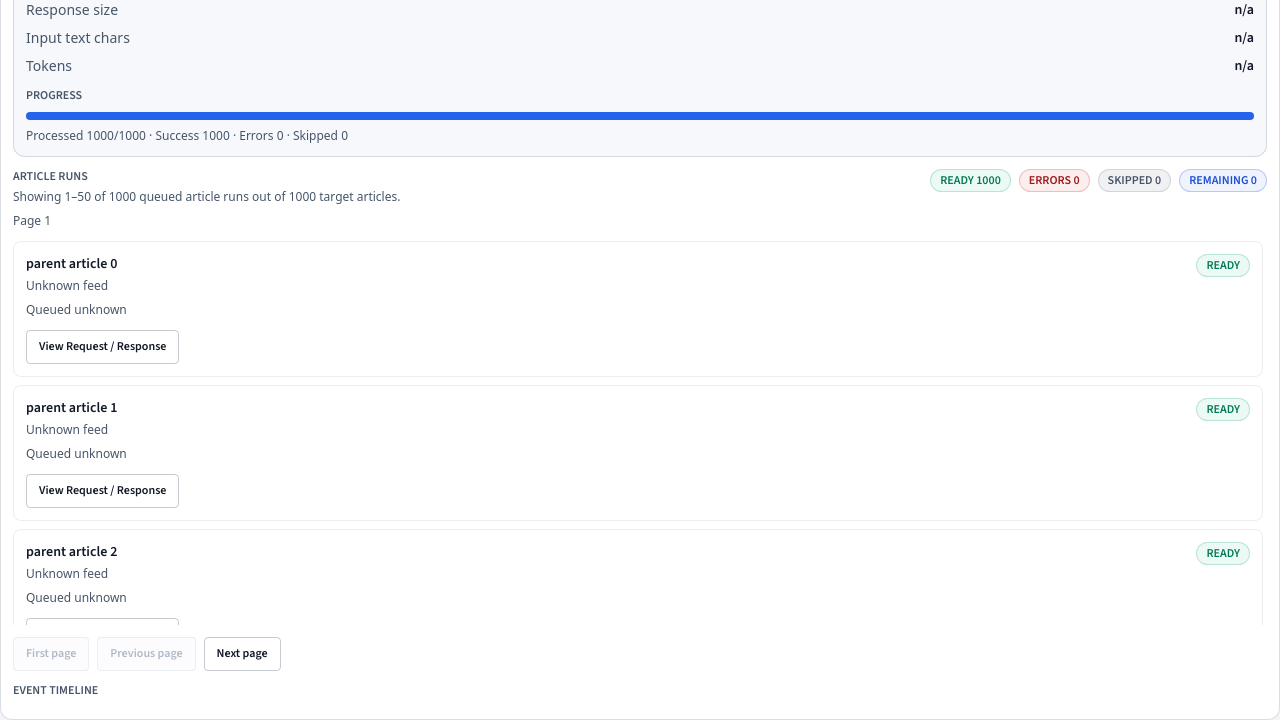
Test: returns to the last available page when retention reduces the total
(page scrolled)
Click the button "Next page": {"x": 242, "y": 654} left=204, top=637, right=281, bottom=671
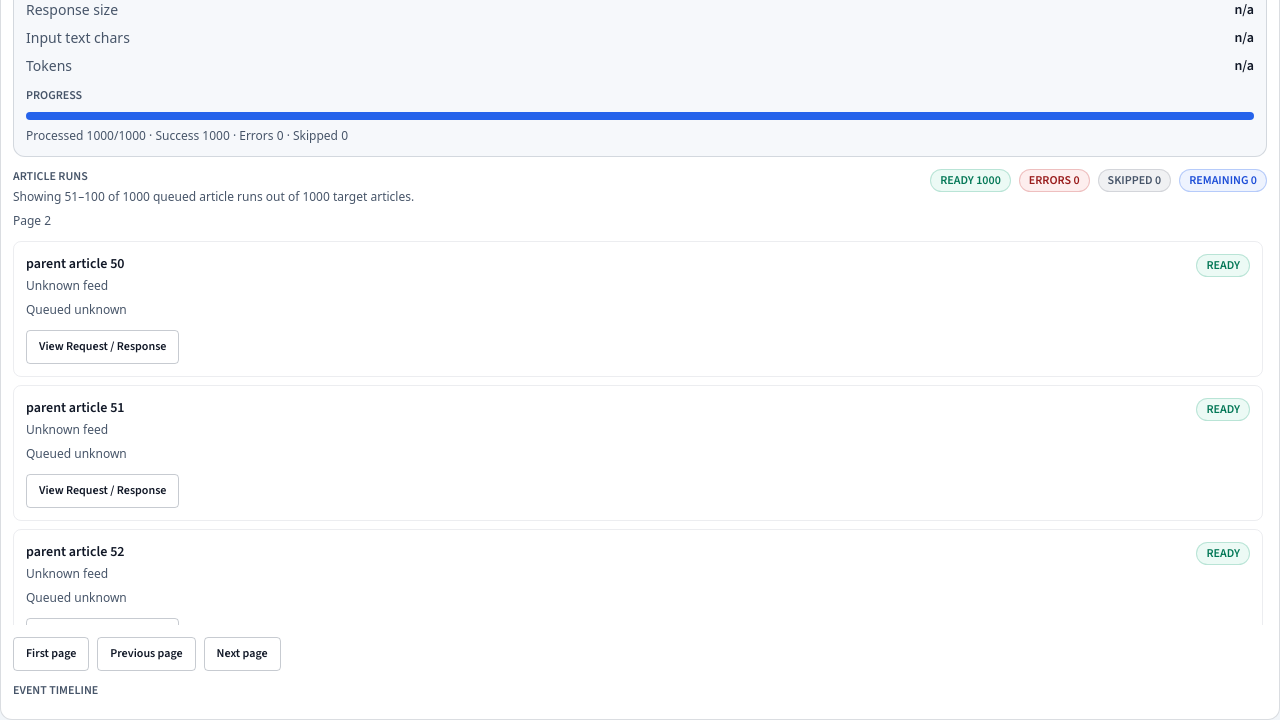
Click the button "Next page": {"x": 242, "y": 654} left=204, top=637, right=281, bottom=671
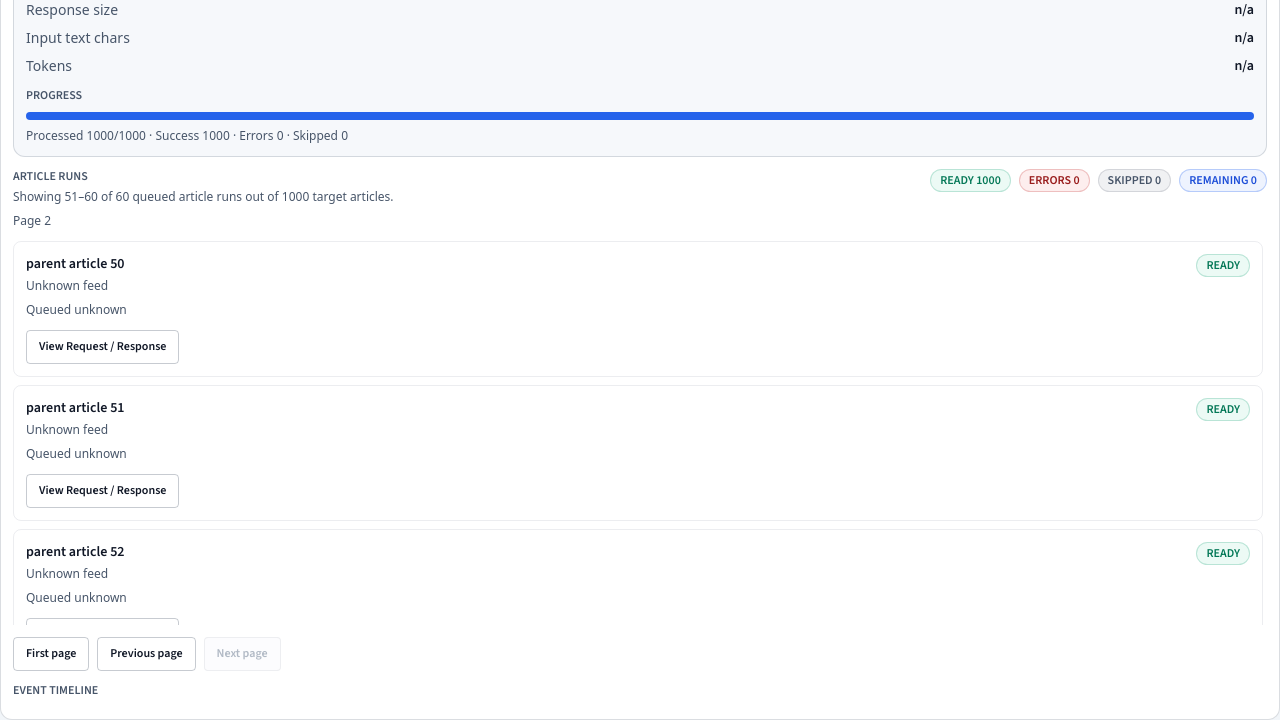
Result: the text "Showing 51–60 of 60" is shown at left=13, top=188, right=394, bottom=205
Result: the button "Next page" is disabled at left=204, top=637, right=281, bottom=671
